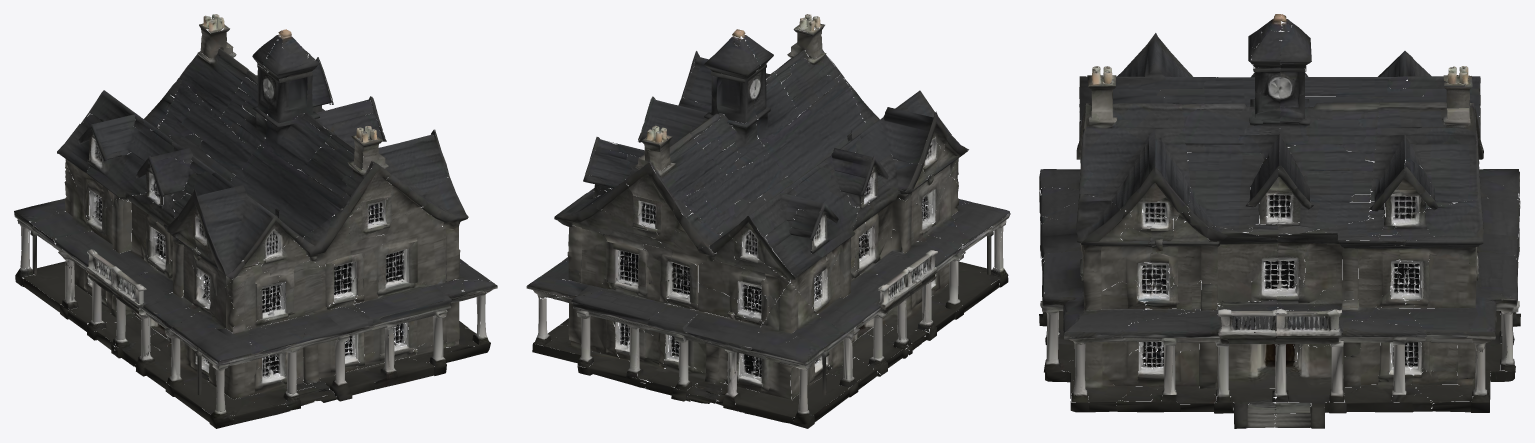
The model's file is clubhouse.glb.
3 renders of one model, left to right at view 1: azimuth 30°, elevation 25°; view 2: azimuth 150°, elevation 25°; view 3: azimuth 270°, elevation 25°, orthographic. The views are drawn at different scales.
Visible parts, largest first — view 1: tripo_node_bdc7270b-1b07-4b6d-ab87-433c9aceeae6; view 2: tripo_node_bdc7270b-1b07-4b6d-ab87-433c9aceeae6; view 3: tripo_node_bdc7270b-1b07-4b6d-ab87-433c9aceeae6.
Boxes of the visible parts, box(x1,y1,x2,y2) form: tripo_node_bdc7270b-1b07-4b6d-ab87-433c9aceeae6: box(14, 14, 497, 428); tripo_node_bdc7270b-1b07-4b6d-ab87-433c9aceeae6: box(526, 14, 1010, 428); tripo_node_bdc7270b-1b07-4b6d-ab87-433c9aceeae6: box(1039, 14, 1520, 428).
Bounding box in the file's own units: 0.8897 × 0.7599 × 0.9994.
1 material, 1 textured.
